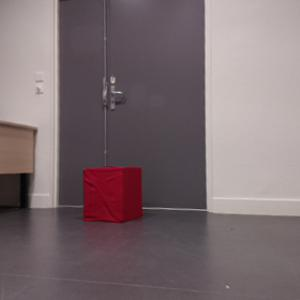medium: (82, 164, 147, 227)
